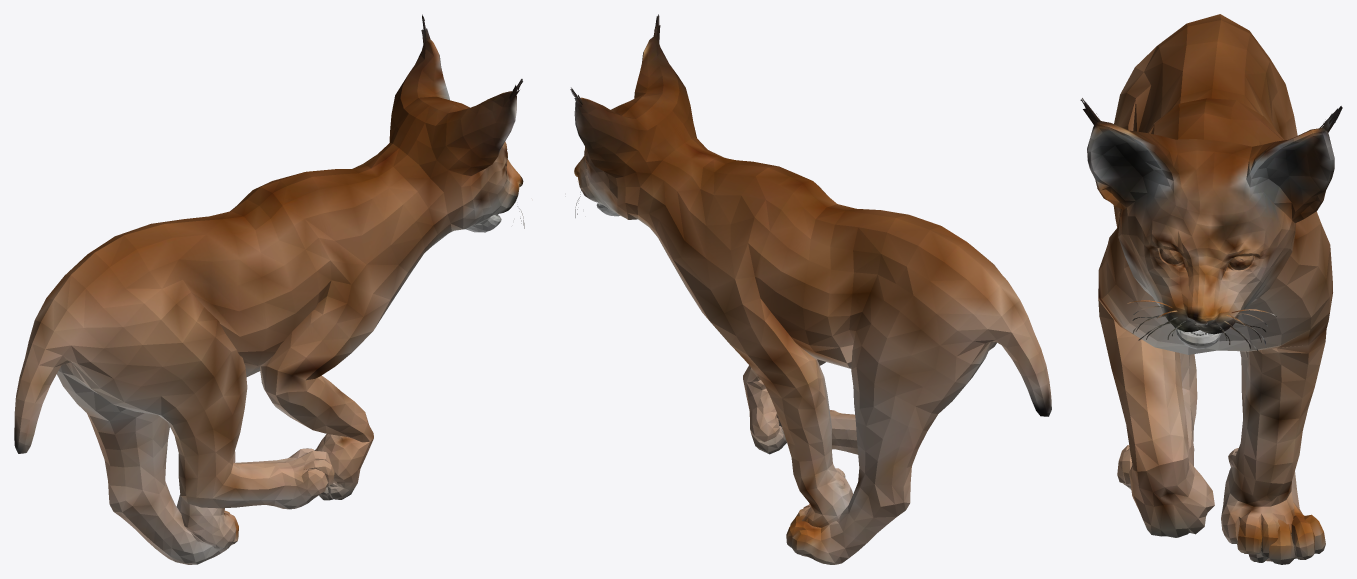
Rendered from lynx.gt.glb.
3 views of the same model, side by side, from view 1: azimuth 30°, elevation 25°; view 2: azimuth 150°, elevation 25°; view 3: azimuth 270°, elevation 25° (orthographic). The views are drawn at different scales.
Visible parts, largest first — view 1: root; view 2: root; view 3: root.
Part boxes in pixels (box(x1,y1,x2,y2)): root: box(14, 14, 524, 564); root: box(570, 14, 1051, 564); root: box(1080, 14, 1342, 564).
Bounding box in the file's own units: 0.497 × 0.4403 × 0.1667.
Materials: 1 (1 with a texture image).
